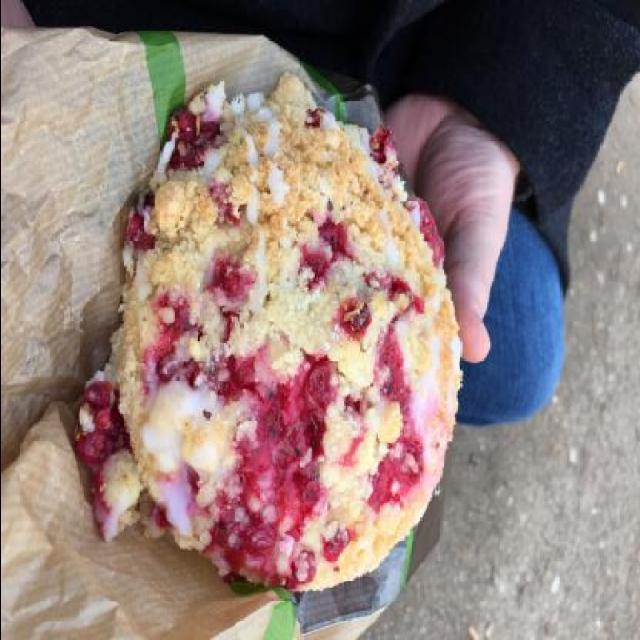Muffin: (70, 71, 467, 598)
